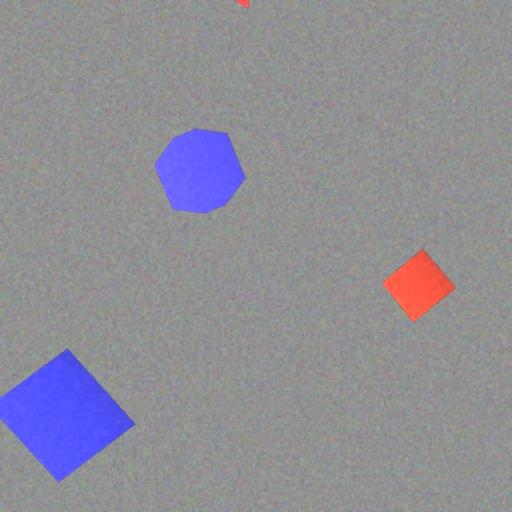BLUE_SQUARE: (0, 348, 137, 482)
RED_SQUARE: (382, 248, 456, 323)
